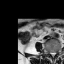CCS_normal: (52, 49, 53, 60)
LFS_stenosis: (55, 49, 57, 56)
LLS_normal: (53, 49, 55, 56)
RFS_stenosis: (47, 49, 49, 57)
RLS_normal: (49, 49, 52, 57)
